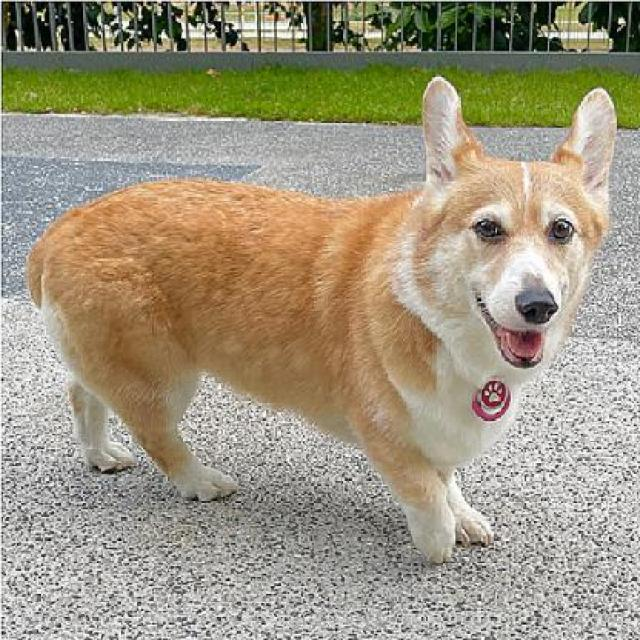Dog: (23, 72, 622, 570)
